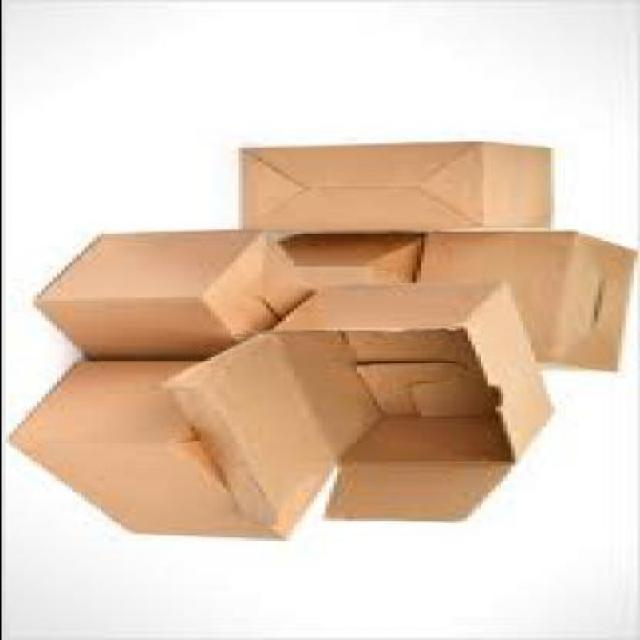CARDBOARD: (162, 278, 562, 522), (8, 359, 335, 538), (35, 228, 320, 357), (411, 229, 638, 369), (242, 139, 549, 232), (276, 231, 427, 284)
